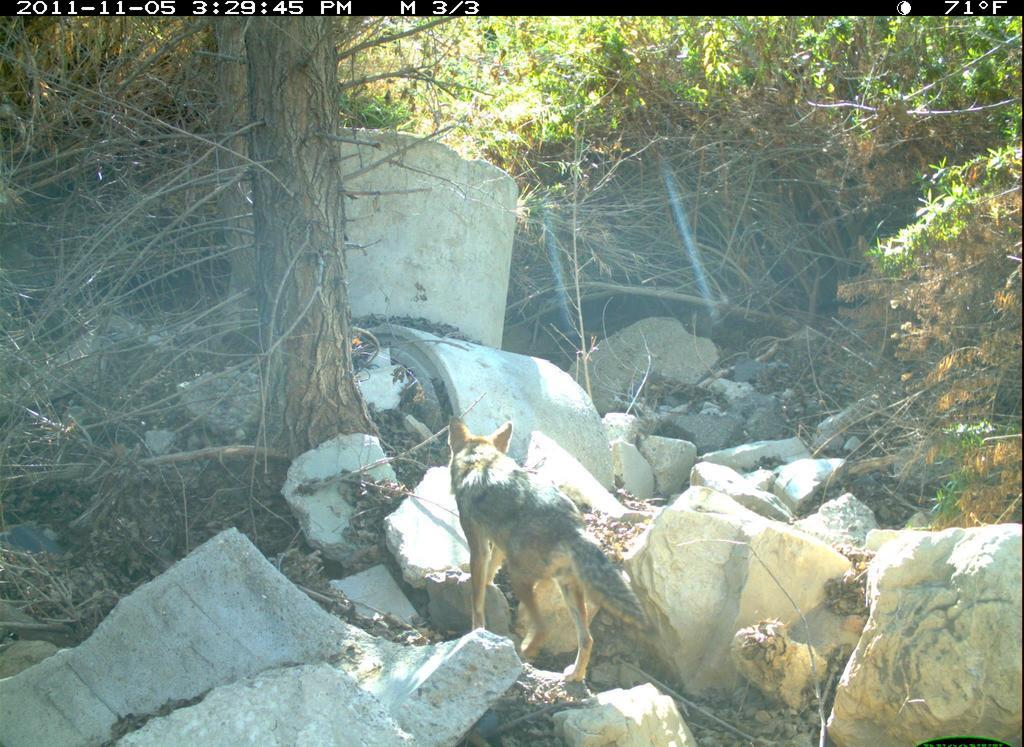coyote: (436, 415, 653, 701)
